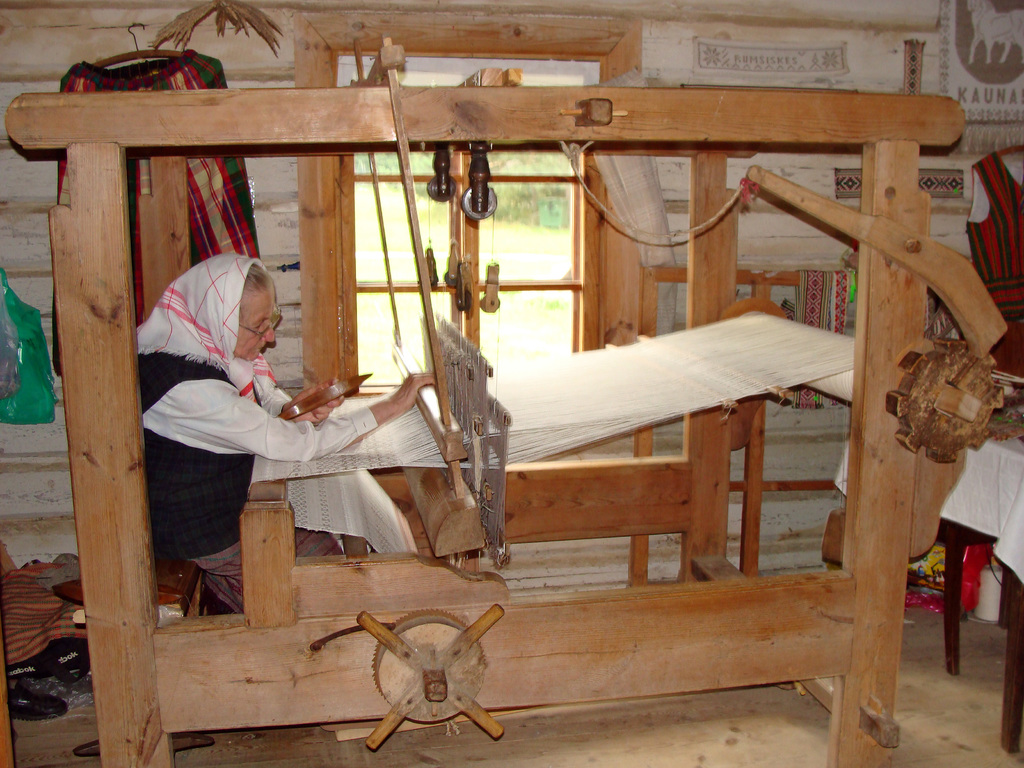Person: (137, 252, 435, 613)
